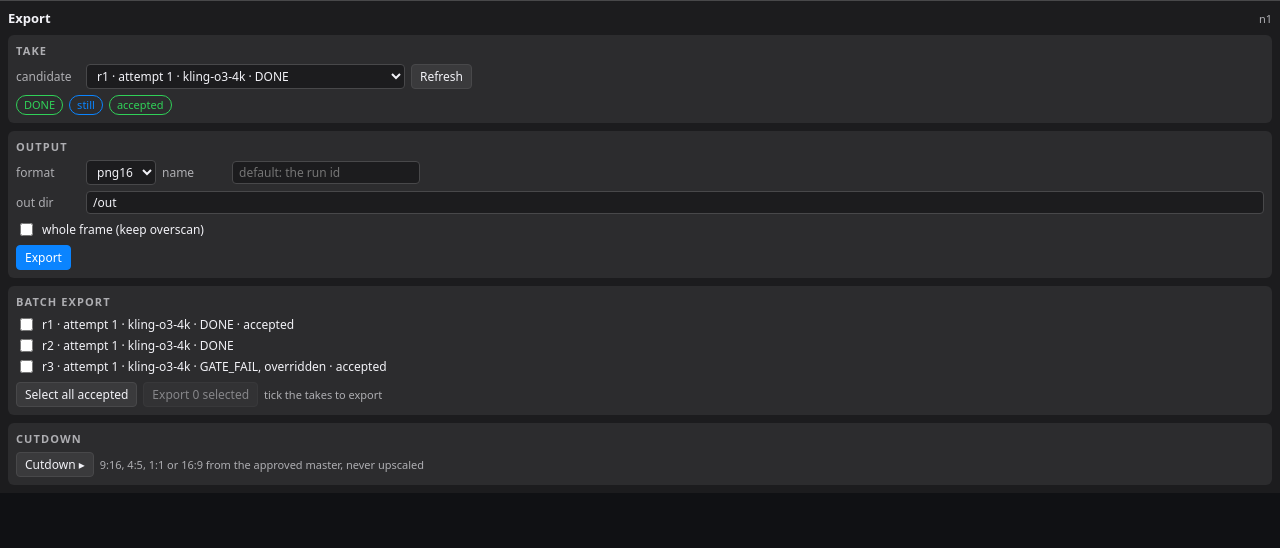
Scenario: ExportEditor: batch export › Select all accepted ticks the accepted takes and posts their run_ids; exported and refused are listed
This screenshot has width=1280, height=548.
Expected: the element with test id "export-batch" is shown, 8,286 -> 1272,415
Expected: the button with test id "export-batch-go" is disabled, 143,382 -> 258,407
Click the button with test id "export-select-accepted" at (77, 394), box 16,382 -> 137,407
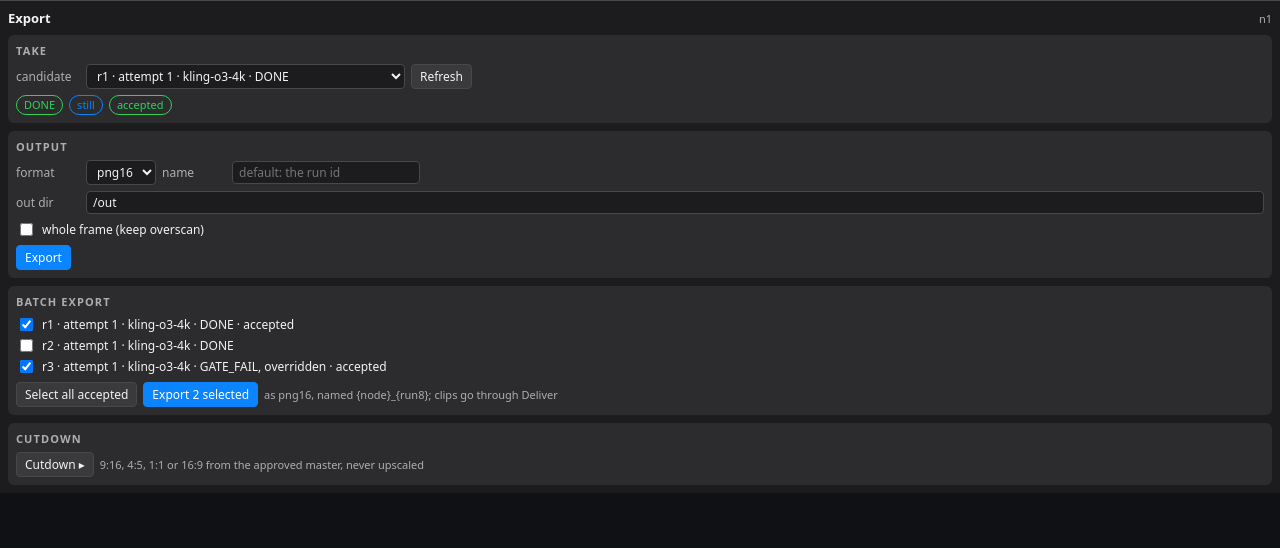
Expected: the checkbox with test id "export-batch-r1" is checked, 20,318 -> 33,331
Expected: the checkbox with test id "export-batch-r3" is checked, 20,360 -> 33,373
Expected: the button with test id "export-batch-go" reads "Export 2 selected"
Click the button with test id "export-batch-go" at (201, 394), box 143,382 -> 258,407
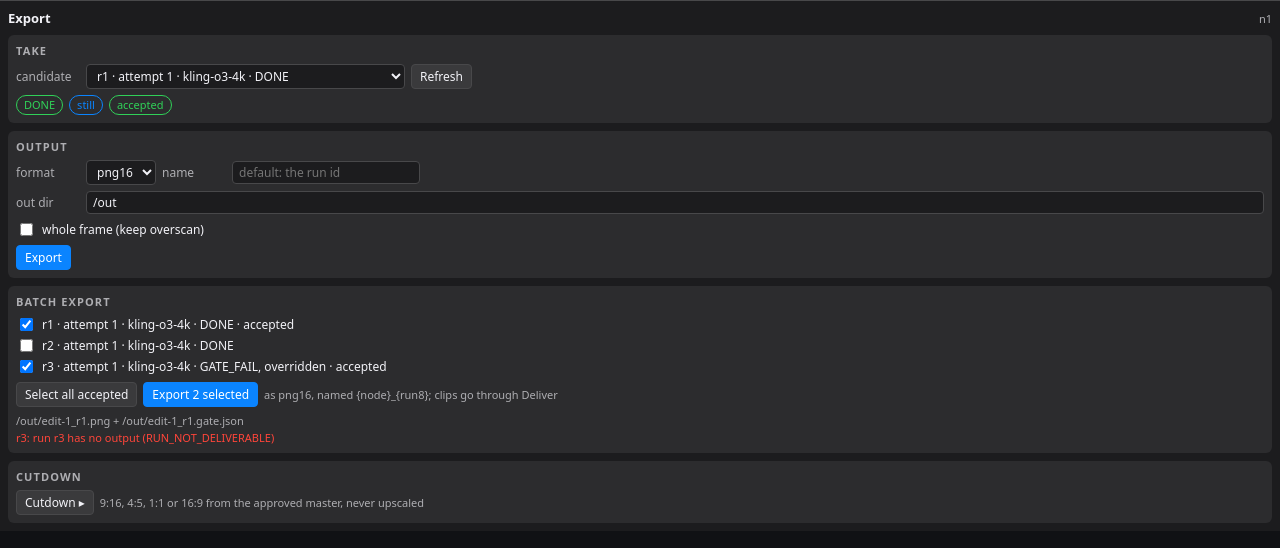
Expected: the text with test id "export-batch-path" reads "/out/edit-1_r1.png + /out/edit-1_r1.gate.json", 16,413 -> 244,428
Expected: the text with test id "export-batch-refused" shows "run r3 has no output (RUN_NOT_DELIVERABLE)", 16,430 -> 274,445
